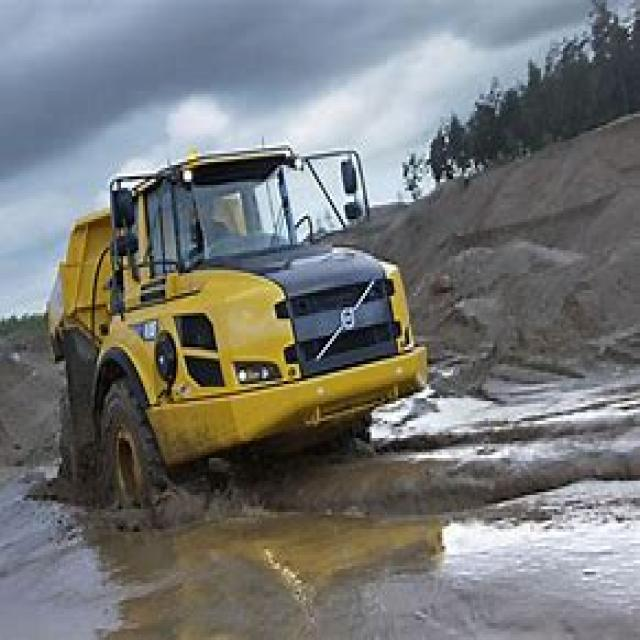dump_truck: (35, 142, 436, 518)
